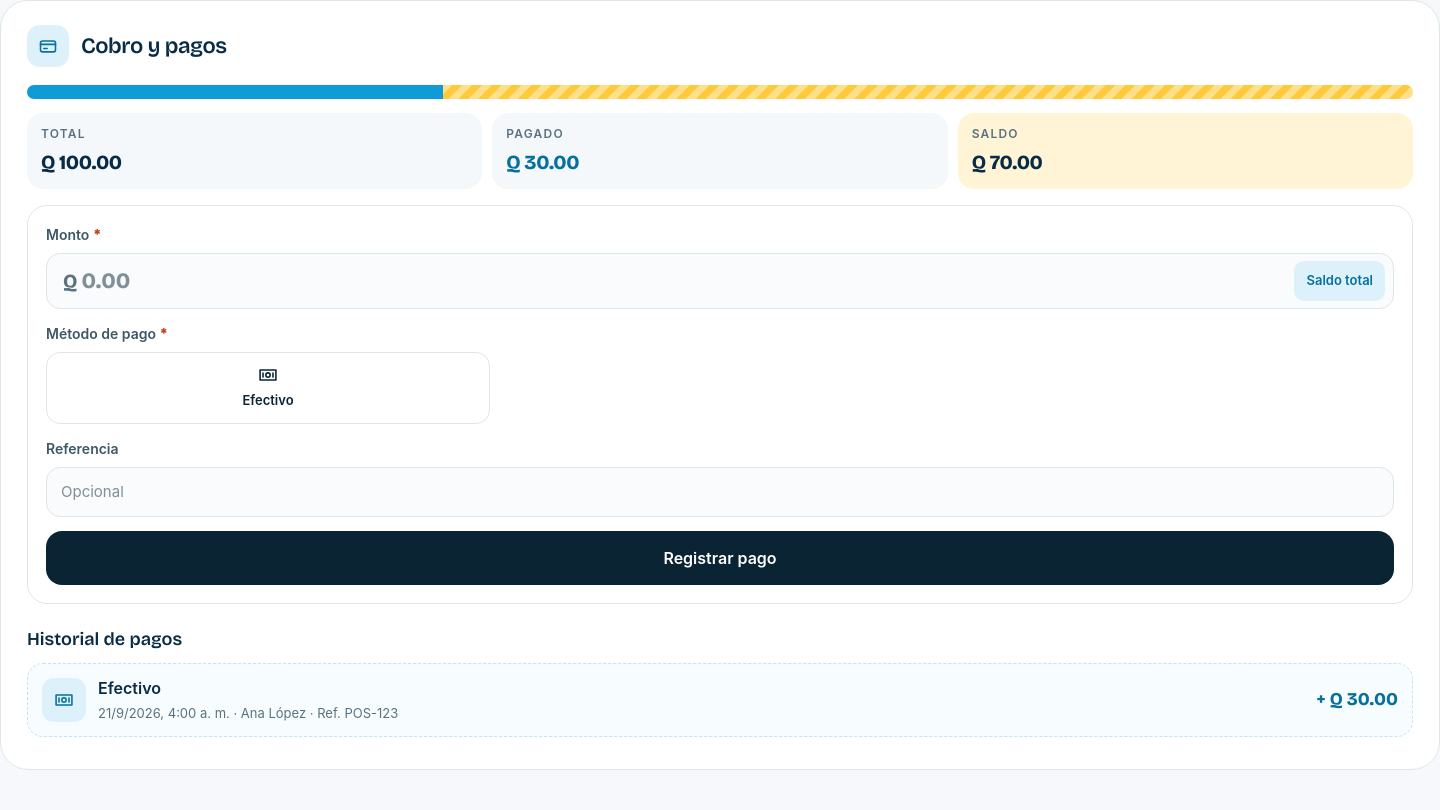
Test case: PaymentPanel › rechaza sobrepago en UI y traduce el conflicto del backend
The width and height of the screenshot is (1440, 810).
Expected: the text "21/9/2026, 4:00 a. m. · Ana López · Ref. POS-123" is shown, [98,704,398,720]
In the field labelled "Monto": (688, 281) [81,254,1294,308], type "71"
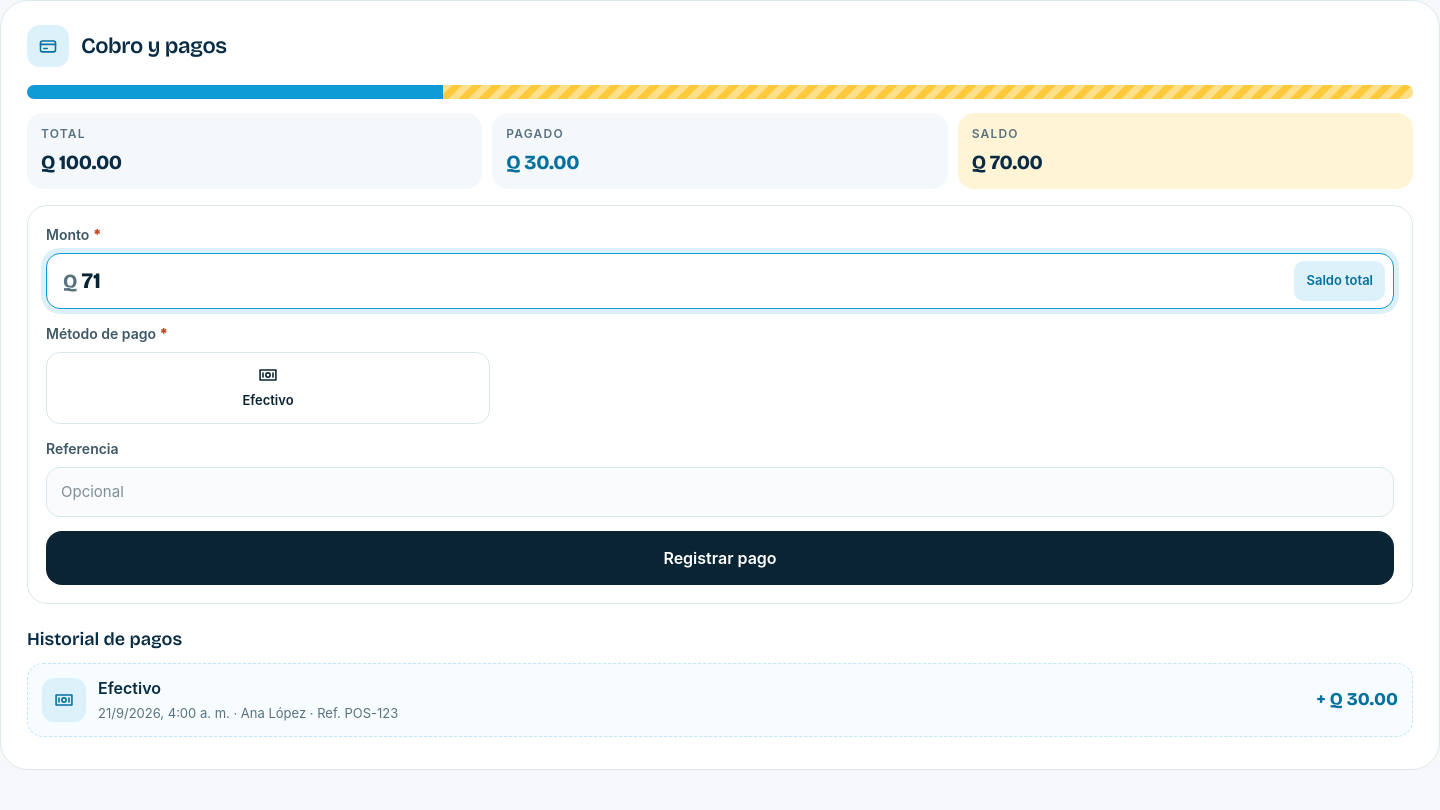
Click the radio button: (268, 388) [46,352,490,424]
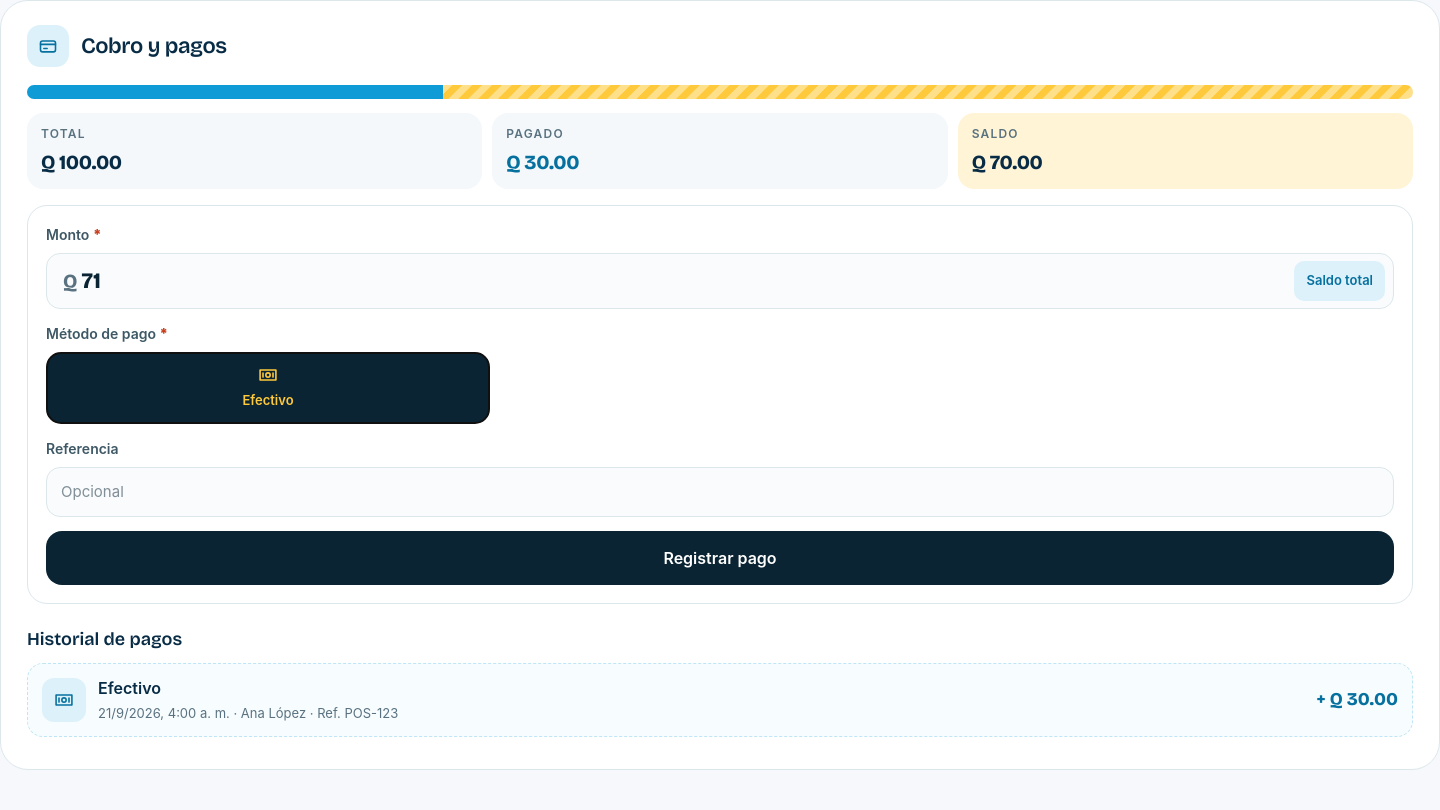
Click the button "Registrar pago": (720, 558) [46,530,1394,584]
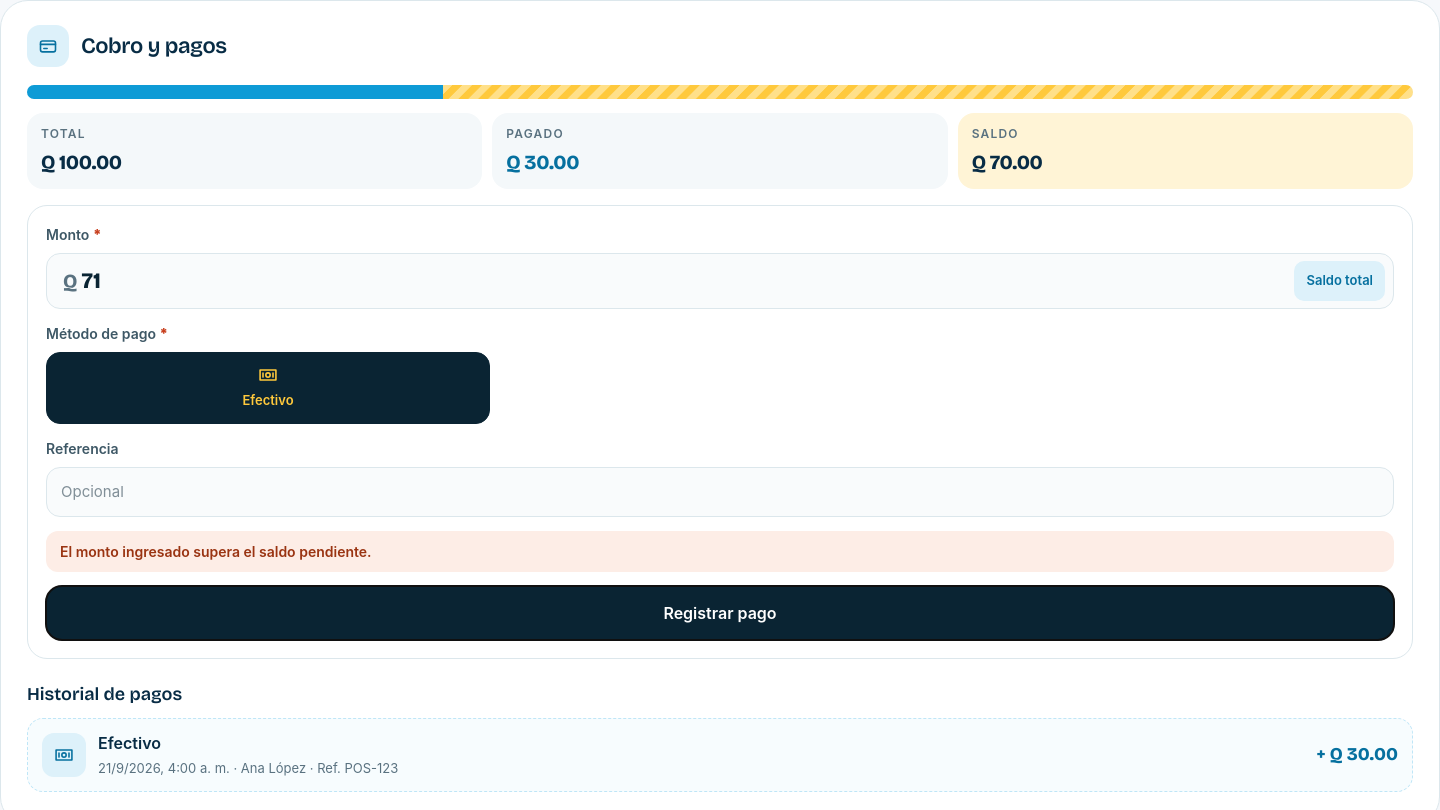
Expected: the message reads "El monto ingresado supera el saldo pendiente.", [60,542,372,560]
Replace the text in the field labelled "Monto" with "60": (688, 281) [81,254,1294,308]
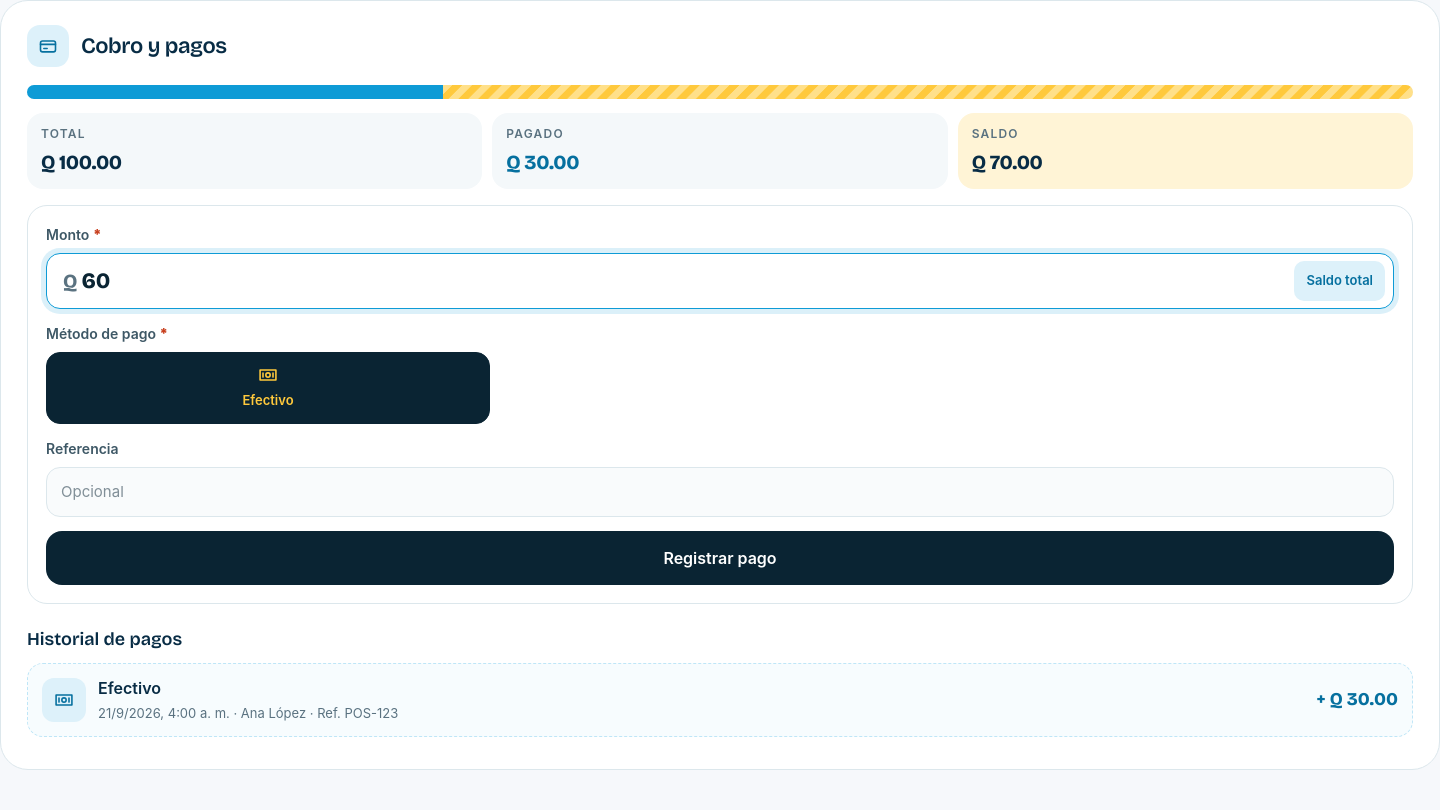
Click the button "Registrar pago": (720, 558) [46,530,1394,584]
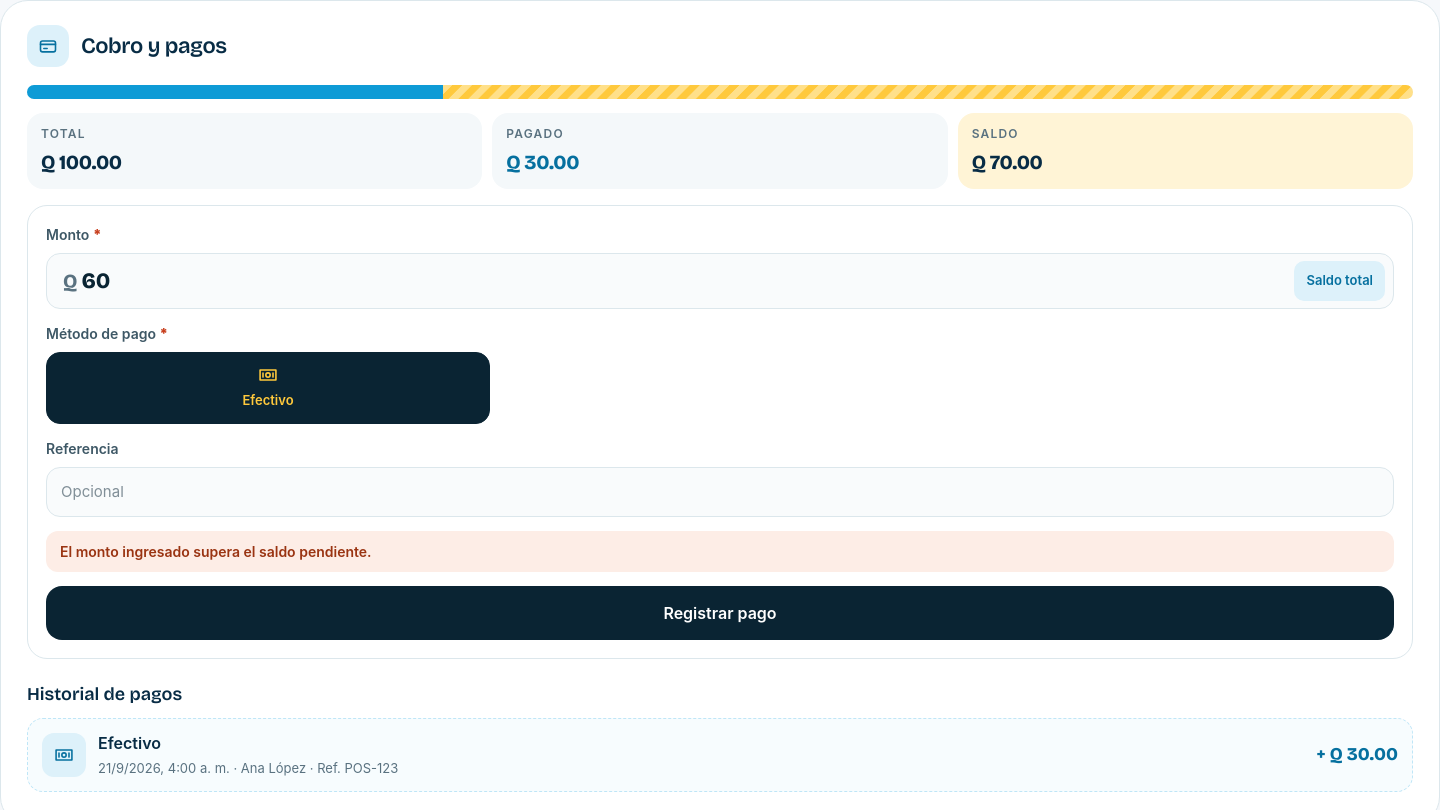
Expected: the message reads "El monto ingresado supera el saldo pendiente.", [60,542,372,560]
